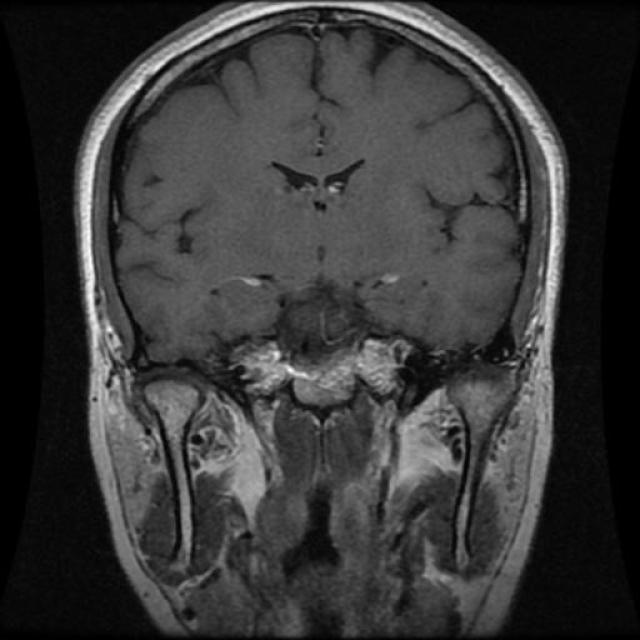pituitary: (227, 340, 420, 414)
